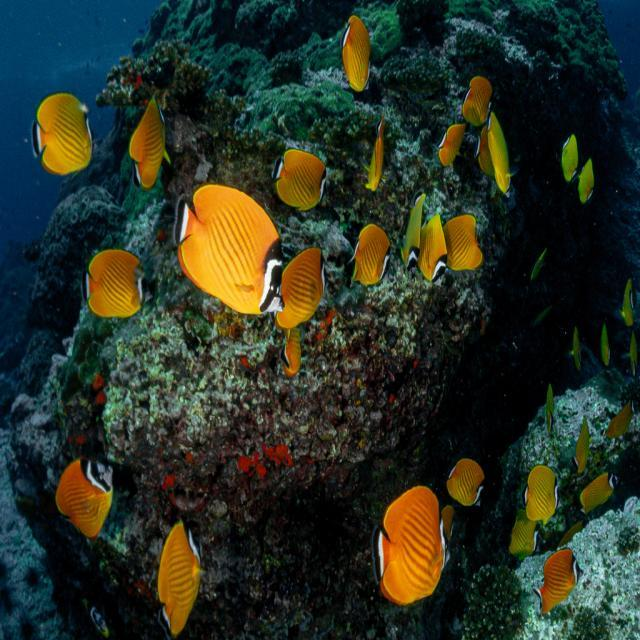ButterflyFish: (180, 181, 286, 316), (376, 486, 450, 608), (32, 93, 94, 175), (58, 455, 113, 545), (162, 522, 200, 636), (86, 249, 146, 321), (129, 92, 171, 186), (535, 548, 589, 613), (280, 144, 326, 212), (352, 221, 391, 290), (443, 216, 486, 275), (342, 16, 373, 94), (523, 462, 560, 526), (398, 197, 427, 275), (419, 212, 446, 286), (448, 463, 488, 508), (573, 472, 617, 511), (468, 68, 492, 128), (560, 134, 578, 182)
